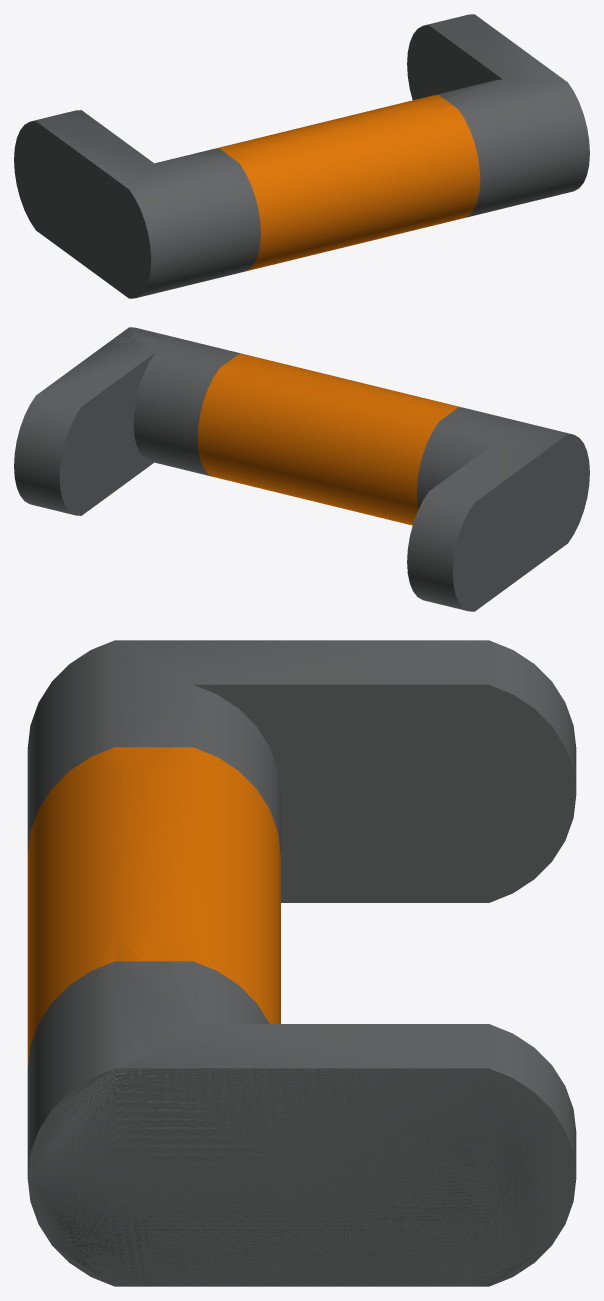
3 views of the same model, one above another, from view 1: azimuth 30°, elevation 25°; view 2: azimuth 150°, elevation 25°; view 3: azimuth 270°, elevation 25° (orthographic). The views are drawn at different scales.
Parts seen in each view (by area): view 1: g1_LOD0, g1_col; view 2: g1_LOD0, g1_col; view 3: g1_LOD0, g1_col.
Part boxes in pixels (box(x1,y1,x2,y2)): g1_LOD0: box(14, 14, 589, 298); g1_col: box(14, 15, 567, 294); g1_LOD0: box(14, 327, 589, 611); g1_col: box(36, 327, 589, 605); g1_LOD0: box(27, 640, 576, 1286); g1_col: box(27, 640, 575, 1286).
Size of what is drawn, in the model's own units: 48 by 11.93 by 26.
